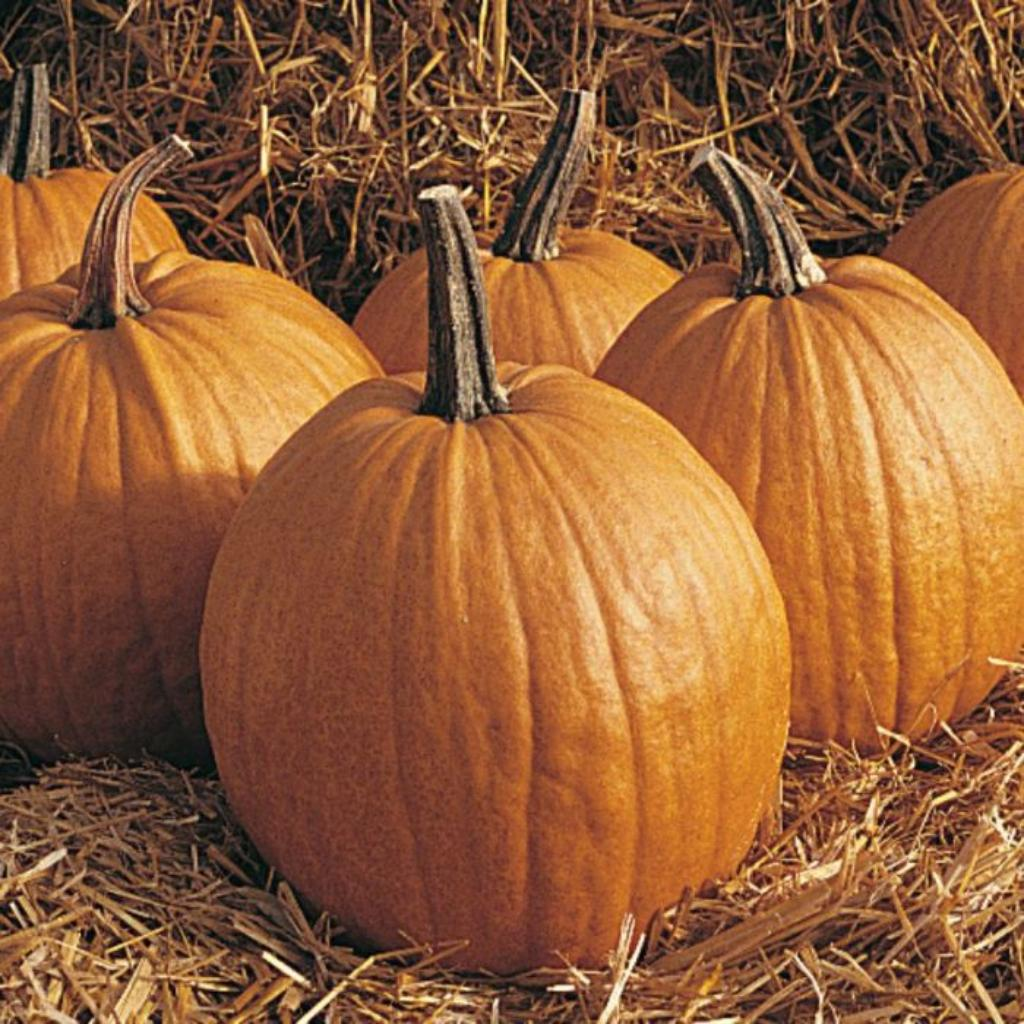pumpkin: (202, 186, 788, 971), (598, 146, 1024, 749), (0, 138, 380, 764), (482, 90, 680, 373), (882, 168, 1024, 399), (0, 64, 112, 299), (354, 250, 428, 373), (132, 196, 186, 260)
